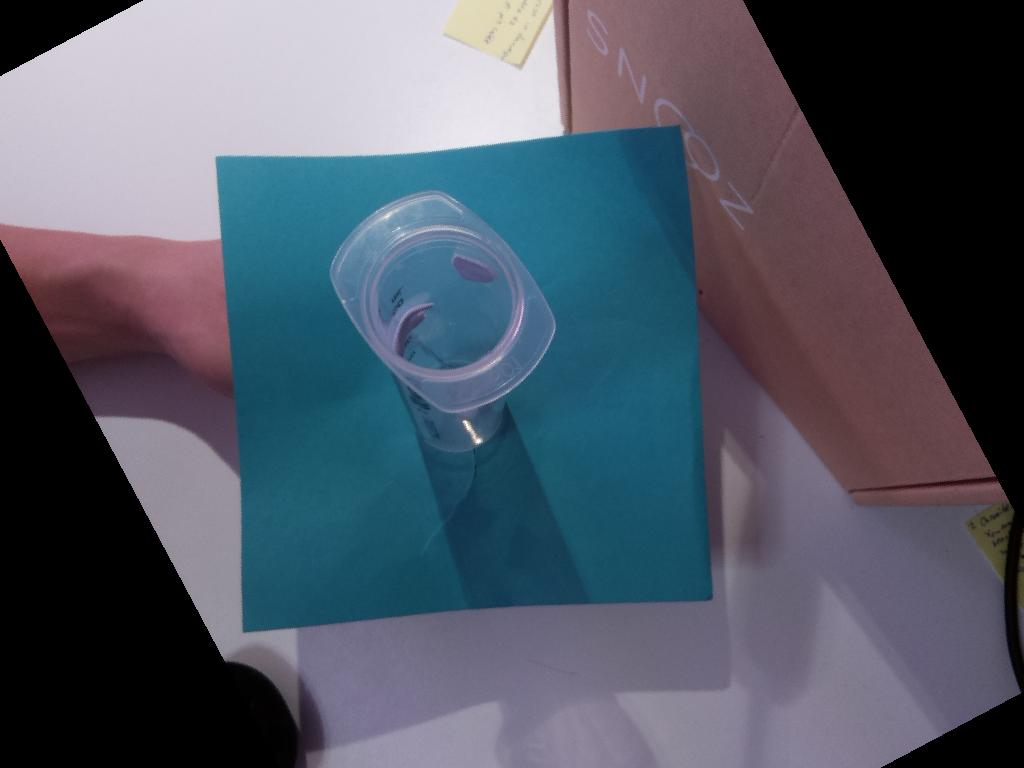dirty: (329, 187, 555, 412)
